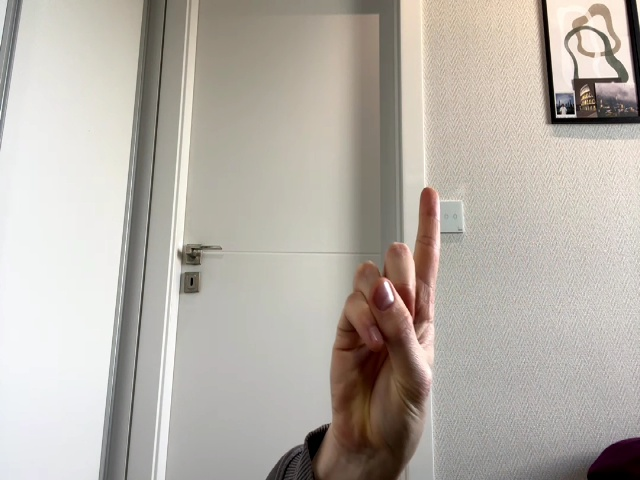Z: (330, 188, 440, 440)
